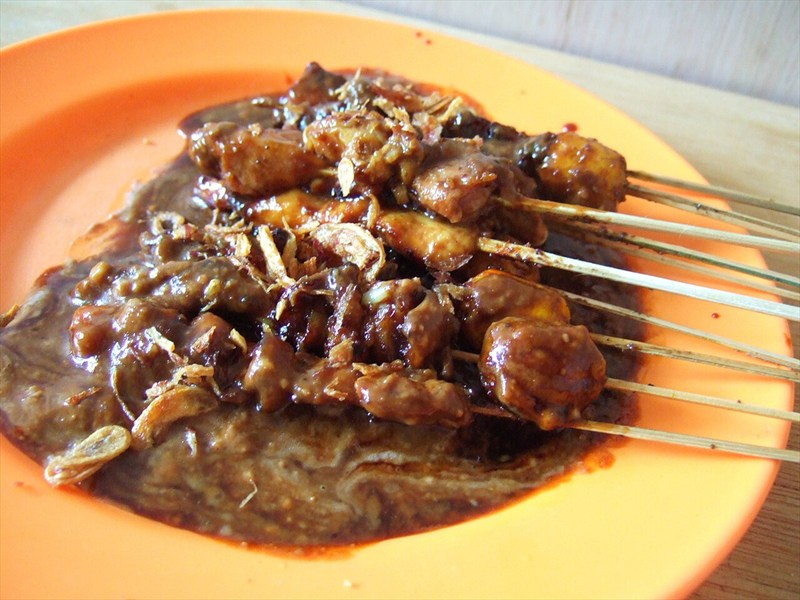Sate Ayam: (112, 109, 648, 486)
